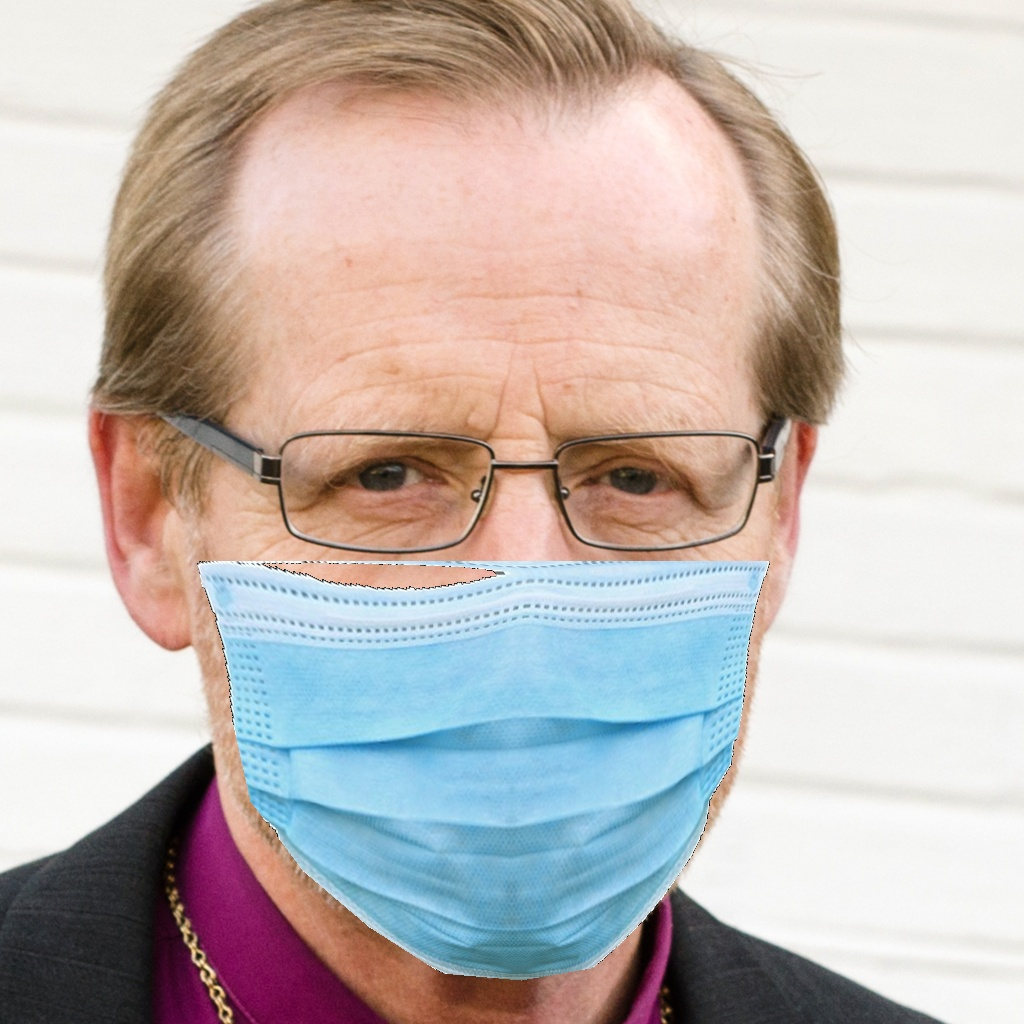with_mask: (238, 419, 770, 976)
